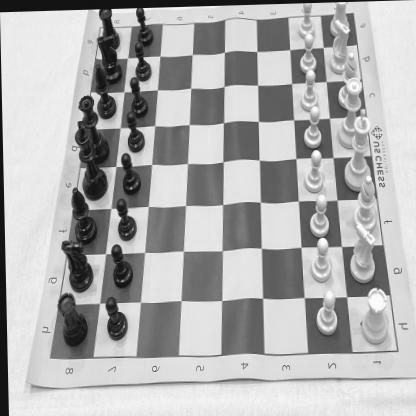black-bishop: (68, 183, 96, 241), (92, 63, 116, 116)
black-king: (73, 118, 107, 198)
black-knight: (60, 236, 92, 288), (96, 31, 121, 81)
black-pawn: (104, 294, 127, 341), (114, 196, 138, 240), (110, 242, 132, 288), (120, 150, 141, 192), (128, 75, 147, 116), (136, 6, 154, 46), (134, 40, 152, 80), (126, 110, 144, 150)
black-queen: (78, 92, 108, 162)
black-rook: (54, 289, 86, 345), (98, 6, 120, 48)
white-bishop: (352, 175, 376, 232), (336, 50, 358, 108)
white-king: (342, 108, 372, 192)
white-knight: (348, 222, 376, 284), (328, 20, 352, 74)
white-pawn: (313, 288, 340, 336), (309, 236, 331, 282), (302, 105, 322, 149), (303, 149, 323, 192), (308, 195, 328, 236), (298, 32, 317, 74), (300, 69, 318, 110), (297, 2, 315, 40)
white-queen: (337, 76, 364, 149)
white-rook: (360, 286, 390, 344), (328, 2, 350, 38)
